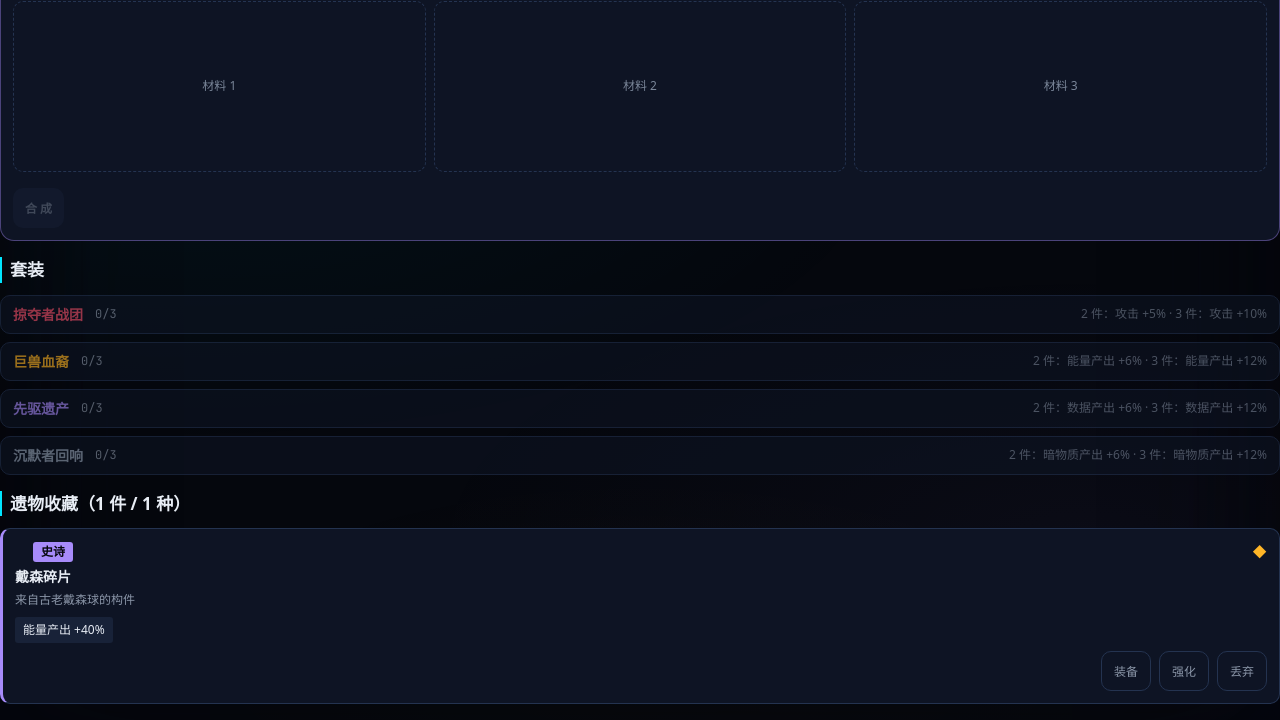
RelicView — 强化（v0.70） › 强化成功：等级+1、能量扣除、卡面 Lv 与效果 label 更新
The image size is (1280, 720).
(page scrolled)
Step 1. Click the button with test id "enhance-button" → [1184, 671], box [1159,651,1209,691]
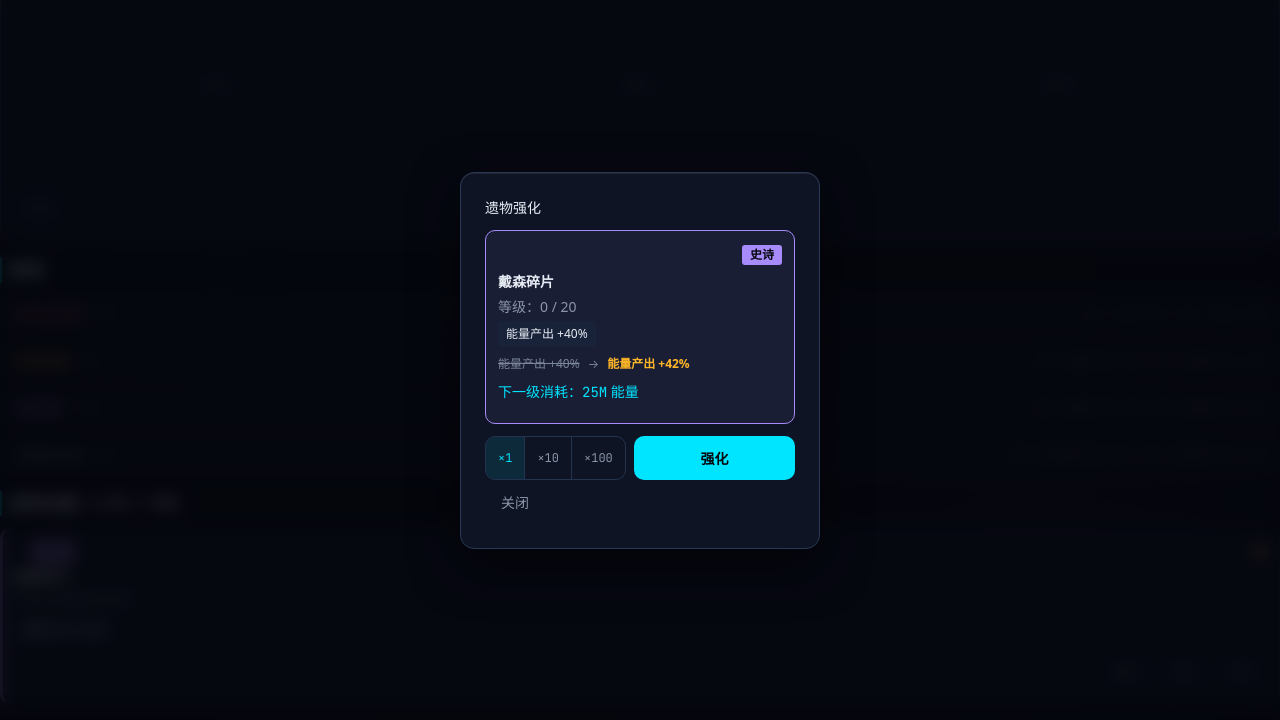
Step 2. Click the button with test id "enhance-confirm" → [714, 458], box [634,436,795,480]
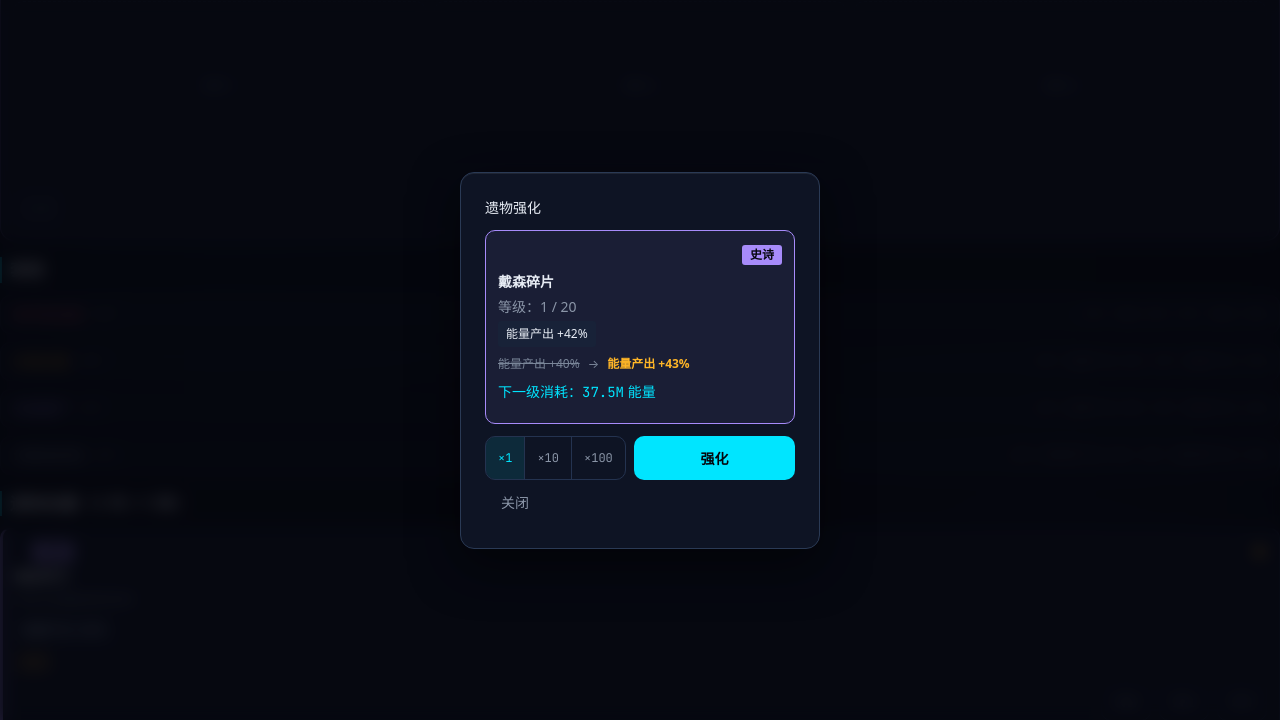
expect the text with test id "enhance-level" shows "1 / 20": met, box [498,296,576,316]
